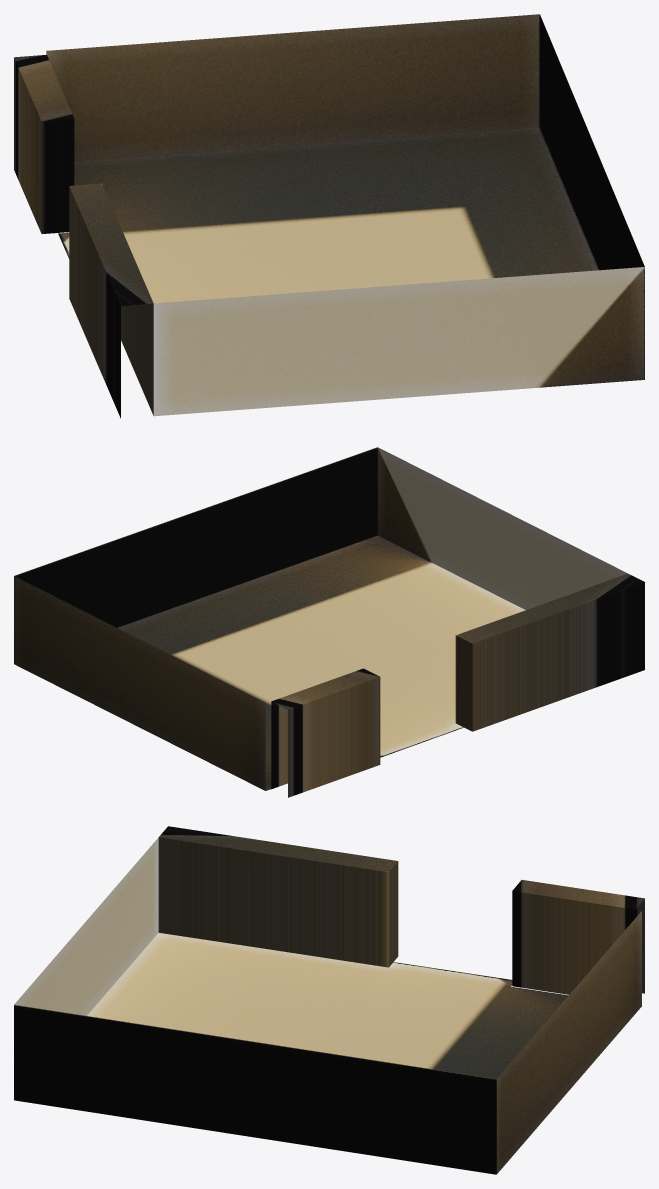
Rendered from Building_05_LV03_Walls_App05.fbx.
The picture shows the model from 3 angles, top to bottom: view 1: azimuth 30°, elevation 25°; view 2: azimuth 150°, elevation 25°; view 3: azimuth 270°, elevation 25°; orthographic projection. The views are drawn at different scales.
Parts seen in each view (by area): view 1: Building_05_LV03_Walls_App05; view 2: Building_05_LV03_Walls_App05; view 3: Building_05_LV03_Walls_App05.
Boxes of the visible parts, x1,y1,x2,y2 form: Building_05_LV03_Walls_App05: [14, 14, 644, 418]; Building_05_LV03_Walls_App05: [14, 447, 644, 797]; Building_05_LV03_Walls_App05: [14, 826, 644, 1174].
Bounding box in the file's own units: 8.46 × 1.49 × 8.91.
Materials: 1 (1 with a texture image).
